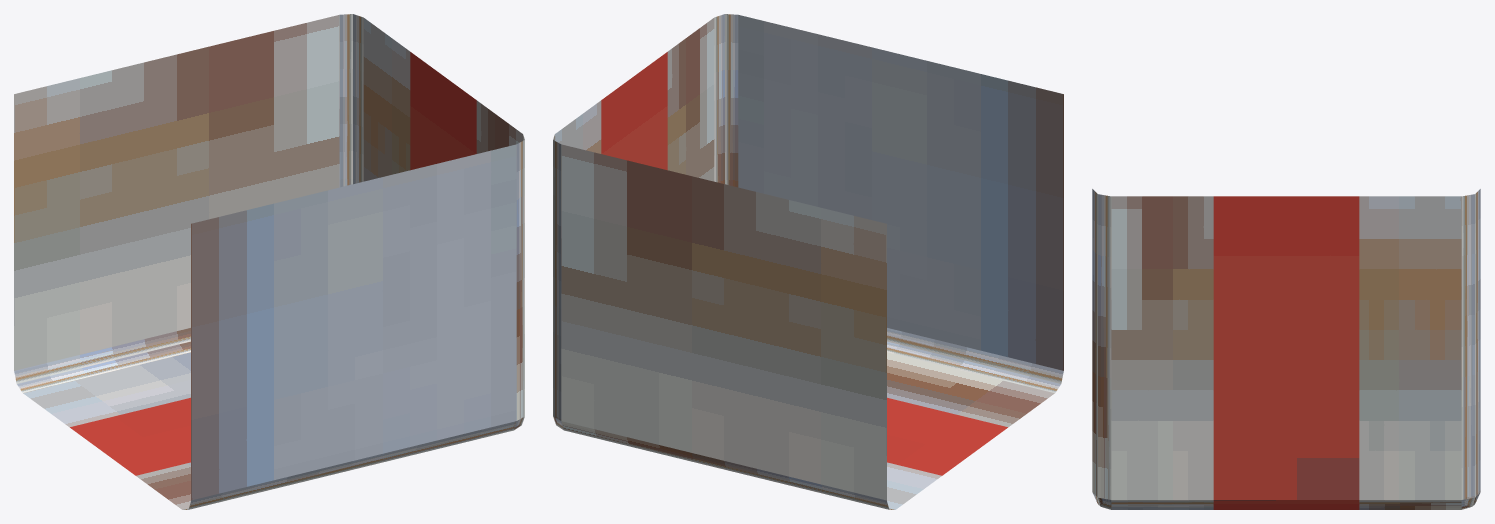
The picture shows the model from 3 angles, left to right: view 1: azimuth 30°, elevation 25°; view 2: azimuth 150°, elevation 25°; view 3: azimuth 270°, elevation 25°; orthographic projection. The views are drawn at different scales.
Visible parts, largest first — view 1: ar_003; view 2: ar_003; view 3: ar_003.
Part boxes in pixels (bbox=[...]): ar_003: bbox=[14, 14, 524, 509]; ar_003: bbox=[553, 14, 1063, 509]; ar_003: bbox=[1092, 189, 1480, 509].
Bounding box in the file's own units: 2.22 × 1.82 × 2.
Materials: 1 (1 with a texture image).
